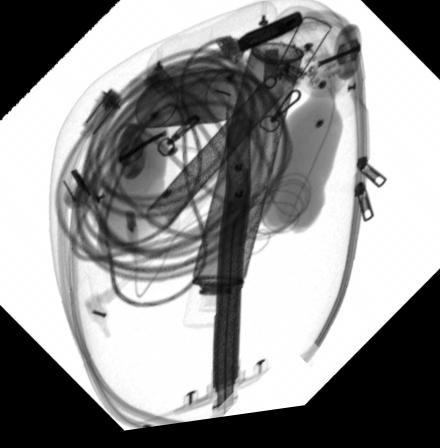Lighter: (236, 20, 301, 58)
Sprayer: (181, 51, 302, 335)
